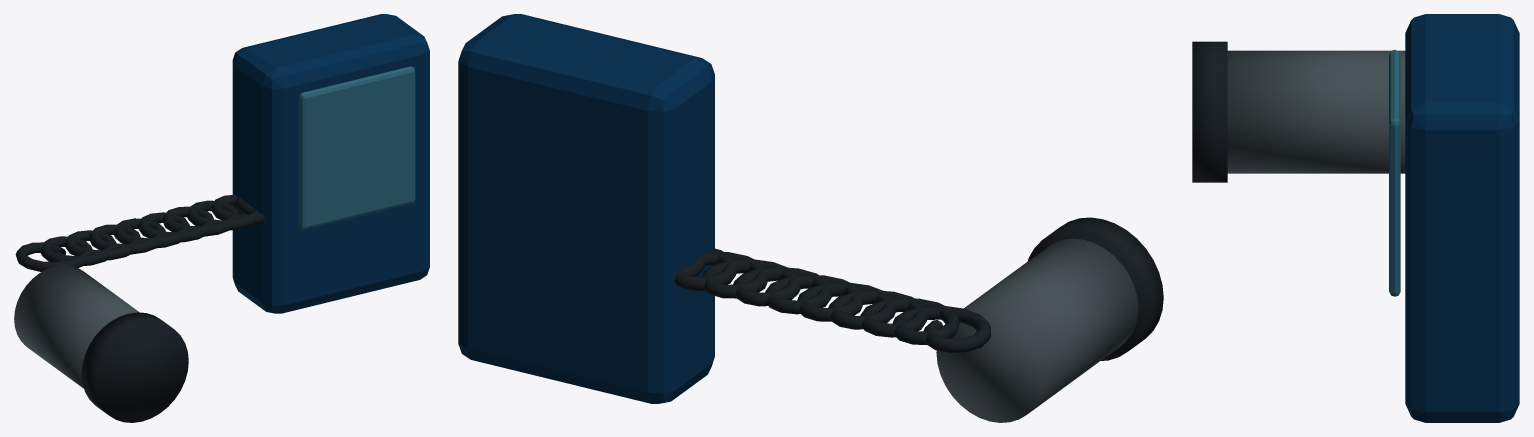
Rendered from PROP_Probe.mobile.glb.
3 renders of one model, left to right at view 1: azimuth 30°, elevation 25°; view 2: azimuth 150°, elevation 25°; view 3: azimuth 270°, elevation 25°, orthographic. The views are drawn at different scales.
Parts seen in each view (by area): view 1: PROP_Probe; view 2: PROP_Probe; view 3: PROP_Probe.
Part boxes in pixels (x1,y1,x2,y2): PROP_Probe: [14, 14, 429, 422]; PROP_Probe: [458, 14, 1163, 422]; PROP_Probe: [1192, 14, 1519, 422].
Bounding box in the file's own units: 0.2165 × 0.12 × 0.1115.
Materials: 1 (1 with a texture image).
